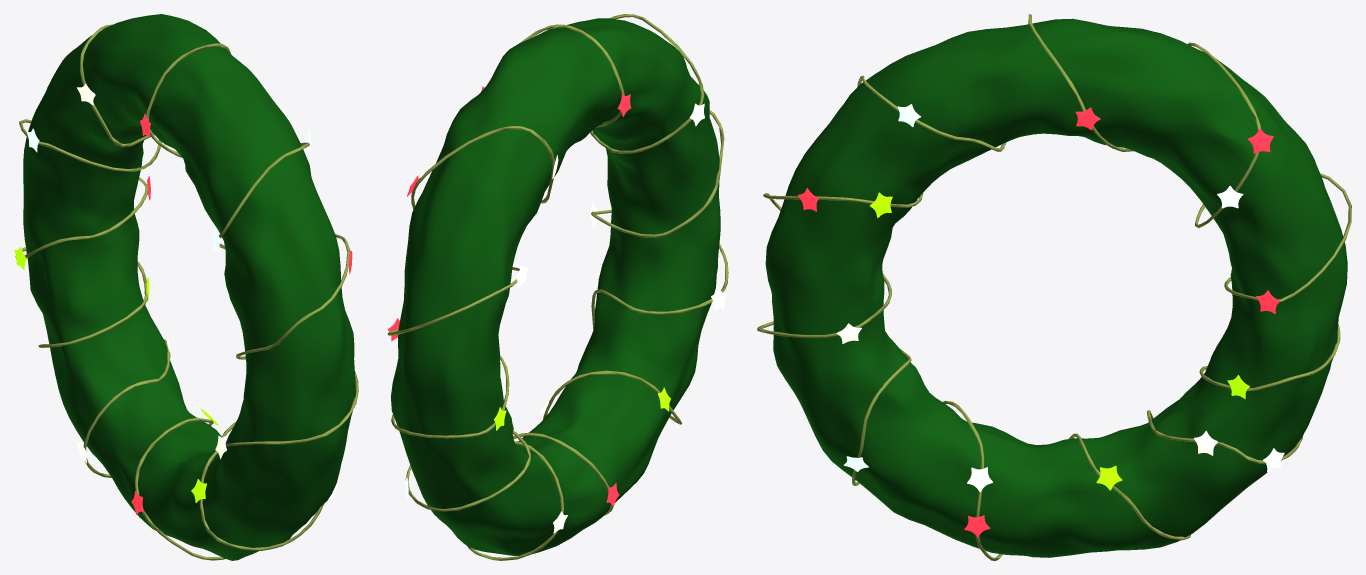
The model's file is girland.glb.
3 views of the same model, side by side, from view 1: azimuth 30°, elevation 25°; view 2: azimuth 150°, elevation 25°; view 3: azimuth 270°, elevation 25° (orthographic). The views are drawn at different scales.
Visible parts, largest first — view 1: Венок, Гирлянда; view 2: Венок, Гирлянда; view 3: Венок, Гирлянда.
Boxes of the visible parts, <box> form: Венок: <box>23,14,355,560</box>; Гирлянда: <box>15,24,358,560</box>; Венок: <box>391,18,720,555</box>; Гирлянда: <box>387,14,728,560</box>; Венок: <box>765,18,1347,557</box>; Гирлянда: <box>757,14,1351,560</box>.
Size of the model in its own units: 0.6966 by 2.52 by 2.55.
